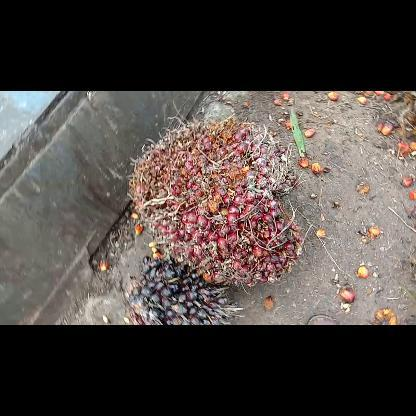TBS abnormal: (123, 254, 247, 324)
TBS masak: (124, 115, 301, 285)
